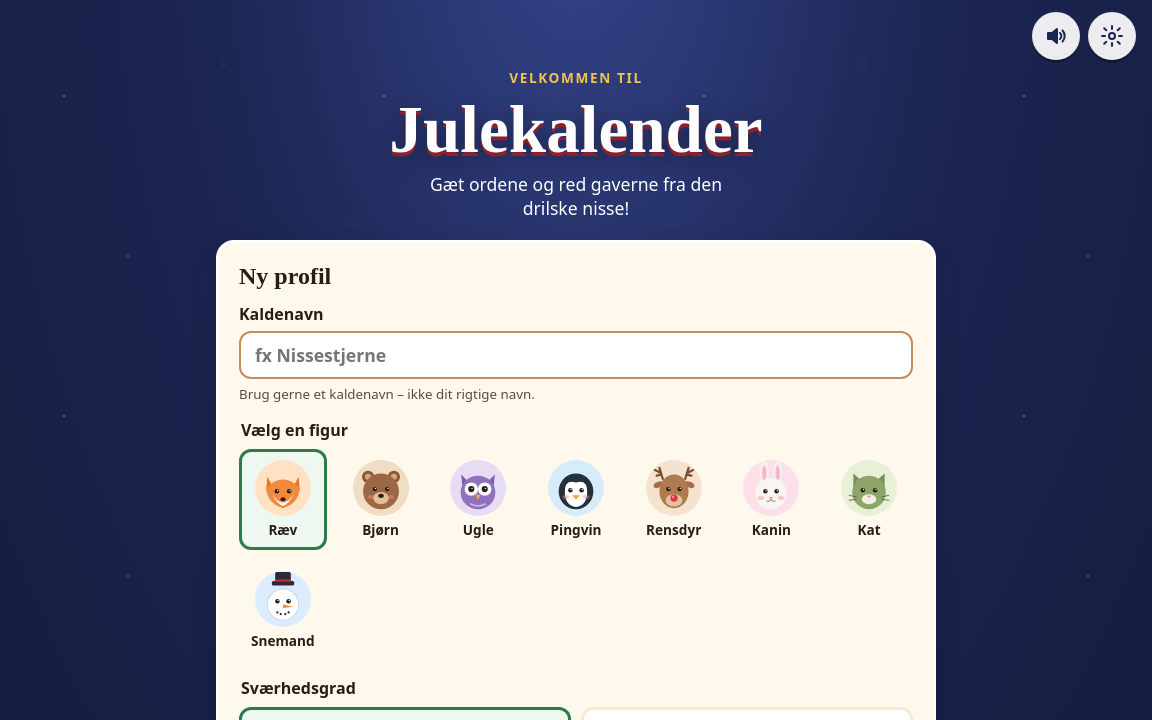
Test: app-flow › opret profil, åbn dagens låge, vind og se gaver og pynt
Later steps or results of the test are not shown.
Type "Ida" into the field labelled "Kaldenavn Brug gerne et kaldenavn – ikke dit rigtige navn." at point(576, 355), box [239, 331, 913, 379]
(page scrolled)
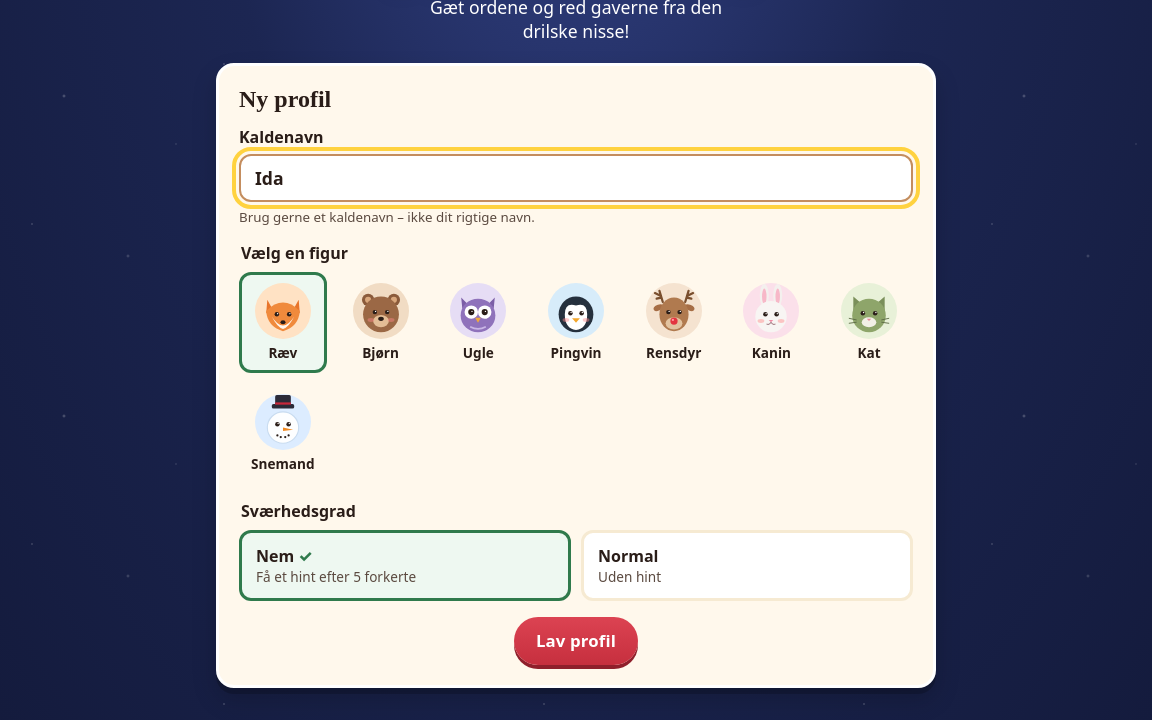
Click the text "Normal" at point(628, 556), box [598, 545, 658, 567]
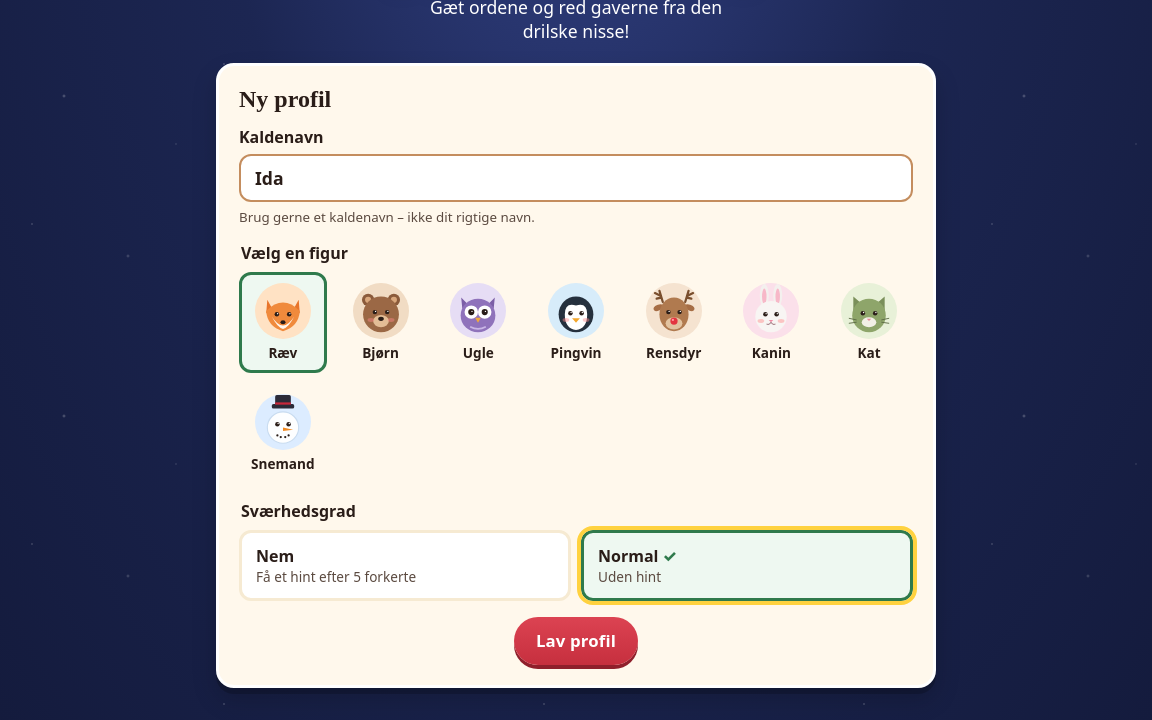
Click the button "Lav profil" at point(576, 641), box [514, 617, 638, 665]
(page scrolled)
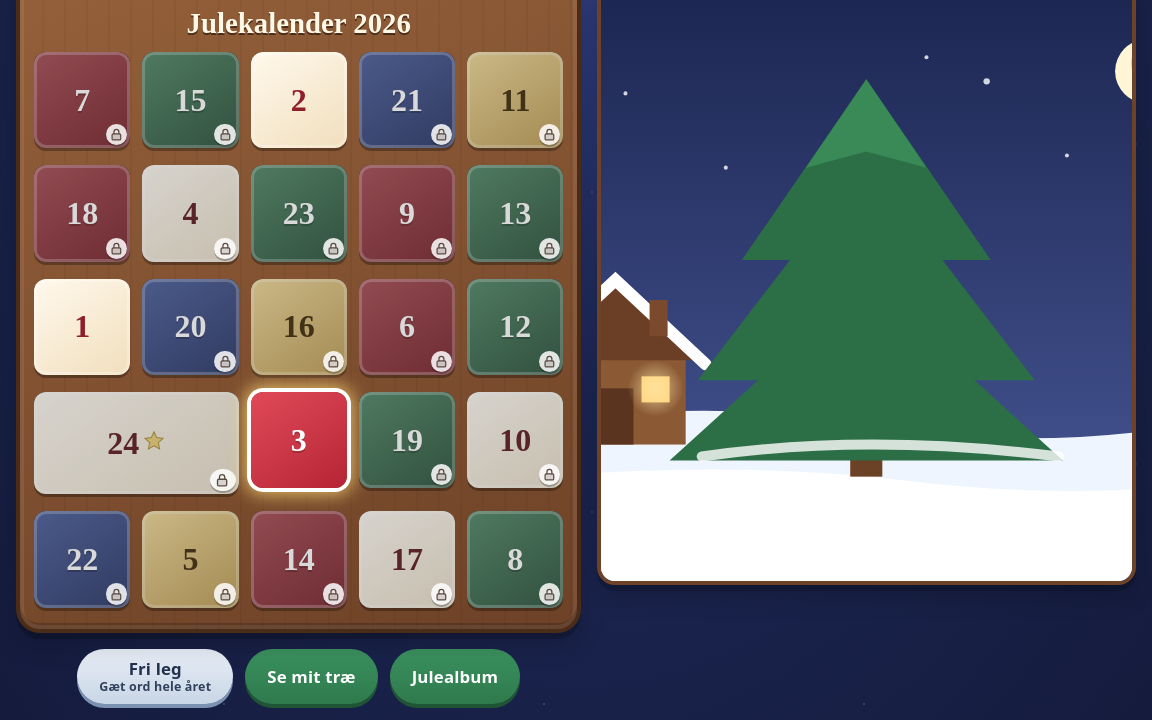
Click the button named "Låge 3, i dag" at point(299, 440), box [251, 392, 347, 488]
(page scrolled)
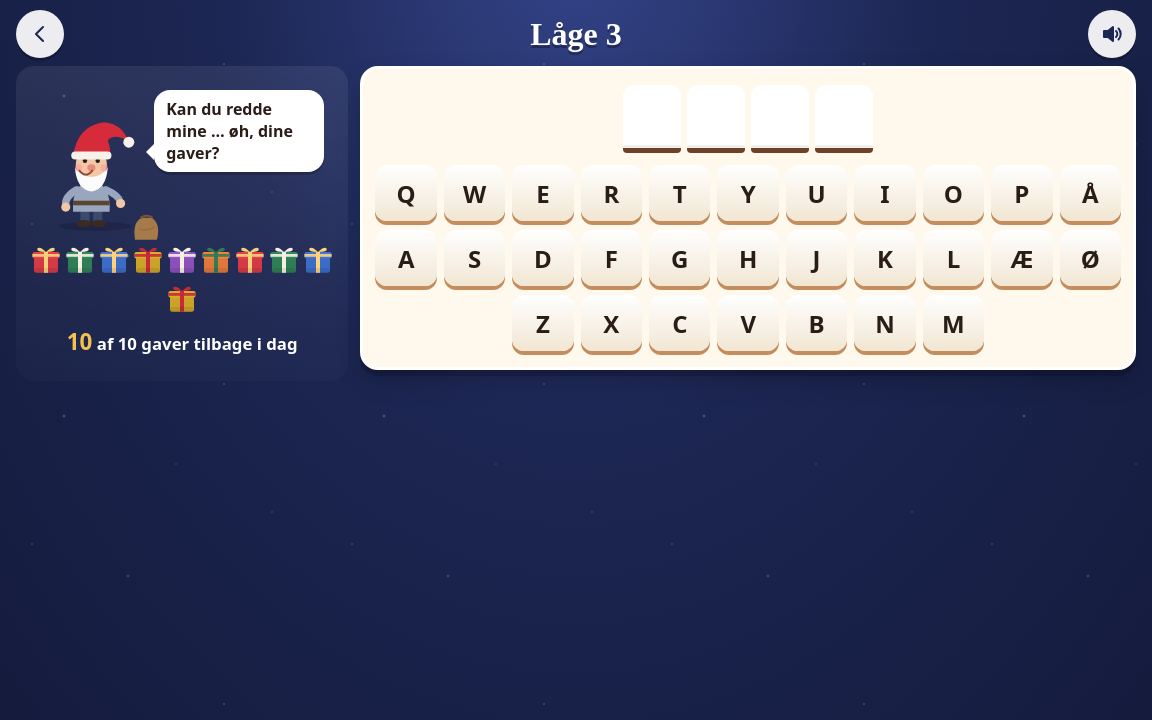
Expected: the heading "Låge 3" is shown, [530, 16, 622, 52]
